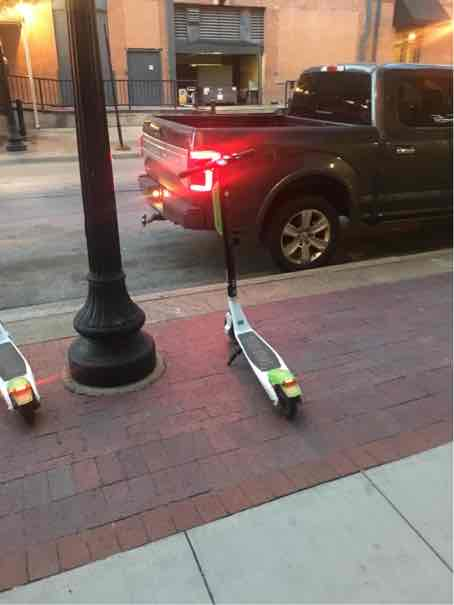scooter: (175, 138, 314, 427)
